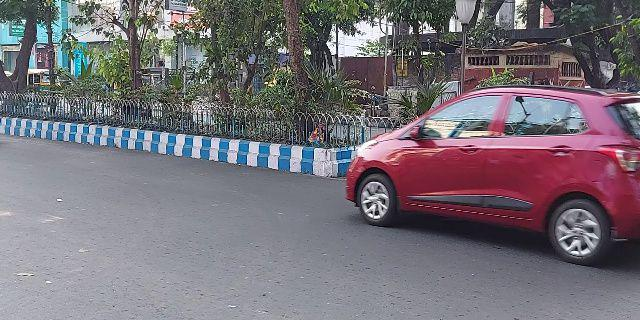Car: (339, 83, 640, 264)
